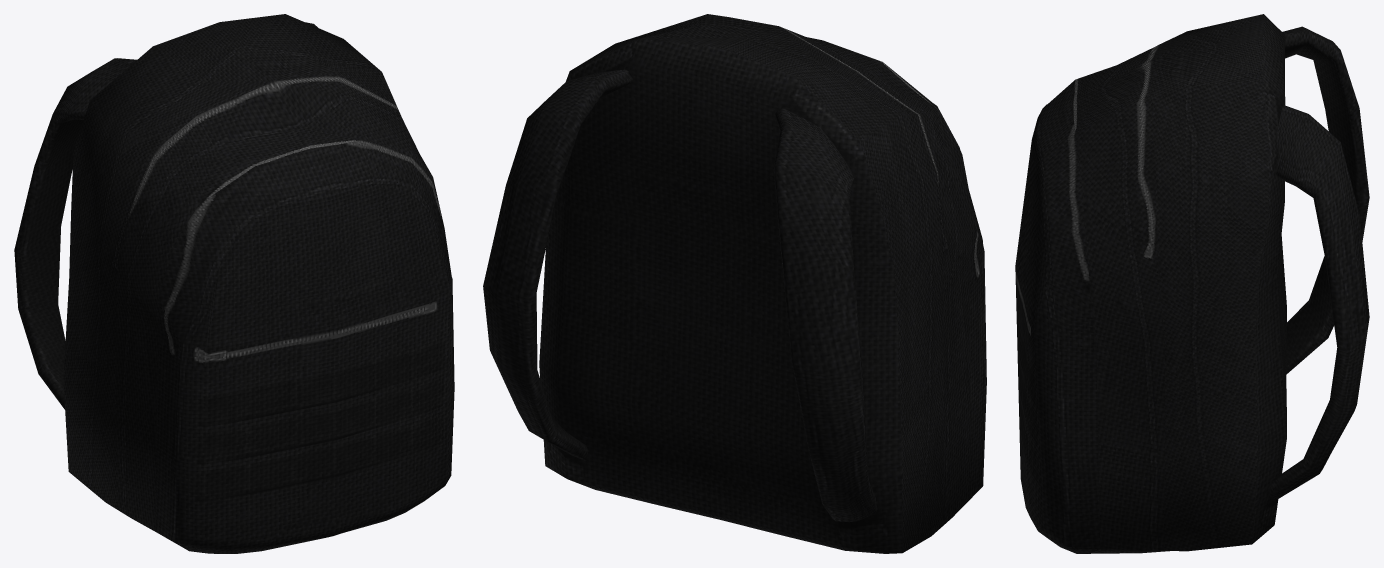
File: Backpack.fbx
The picture shows the model from 3 angles, left to right: view 1: azimuth 30°, elevation 25°; view 2: azimuth 150°, elevation 25°; view 3: azimuth 270°, elevation 25°; orthographic projection. The views are drawn at different scales.
Visible parts, largest first — view 1: Backpack; view 2: Backpack; view 3: Backpack.
Part boxes in pixels (x1,y1,x2,y2): Backpack: (14, 14, 454, 553); Backpack: (483, 14, 986, 553); Backpack: (1015, 14, 1369, 553).
Bounding box in the file's own units: 0.738 × 0.9352 × 0.6569.
